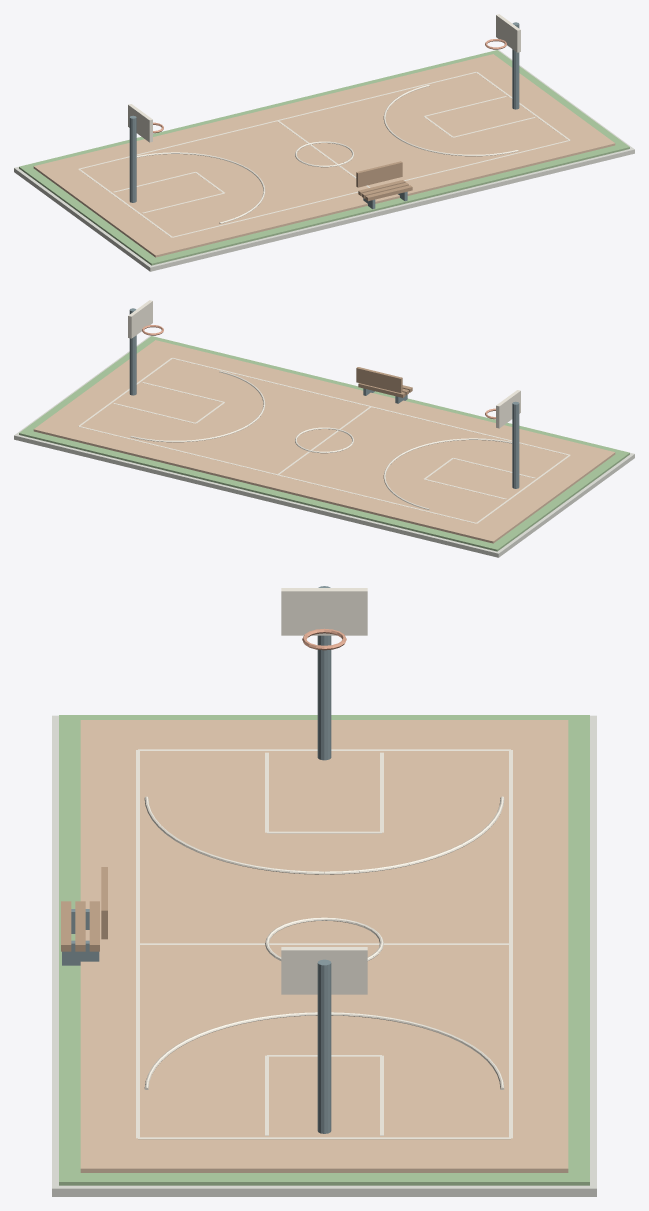
File: remaster_basketball.glb
3 renders of one model, top to bottom at view 1: azimuth 30°, elevation 25°; view 2: azimuth 150°, elevation 25°; view 3: azimuth 270°, elevation 25°, orthographic. The views are drawn at different scales.
Visible parts, largest first — view 1: court surface.001, lot surface.006, lot foundation.006, bench back.007, hoop support, painted line.010, backboard.001, painted line.009, backboard, hoop support.001; view 2: court surface.001, lot surface.006, lot foundation.006, bench back.007, hoop support, painted line.010, painted line.009, backboard.001, backboard, hoop support.001; view 3: court surface.001, lot surface.006, lot foundation.006, backboard, backboard.001, hoop support.001, hoop support, painted line.009, painted line.010, painted line.012.
Boxes of the visible parts, box(x1,y1,x2,y2) form: court surface.001: box(33, 54, 615, 257); lot surface.006: box(19, 50, 629, 265); lot foundation.006: box(14, 49, 634, 271); bench back.007: box(356, 161, 402, 187); hoop support: box(129, 115, 136, 202); painted line.010: box(79, 72, 476, 169); backboard.001: box(496, 14, 520, 52); painted line.009: box(172, 140, 569, 237); backboard: box(128, 104, 152, 142); hoop support.001: box(512, 22, 519, 109); court surface.001: box(33, 340, 615, 543); lot surface.006: box(19, 336, 629, 551); lot foundation.006: box(14, 335, 634, 557); bench back.007: box(356, 367, 402, 392); hoop support: box(512, 401, 519, 488); painted line.010: box(79, 426, 476, 523); painted line.009: box(172, 358, 569, 455); backboard.001: box(128, 300, 152, 338); backboard: box(496, 390, 520, 428); hoop support.001: box(129, 308, 136, 395); court surface.001: box(80, 720, 568, 1172); lot surface.006: box(59, 715, 589, 1185); lot foundation.006: box(52, 715, 596, 1196); backboard: box(281, 588, 367, 635); backboard.001: box(281, 947, 367, 994); hoop support.001: box(317, 959, 331, 1133); hoop support: box(317, 586, 331, 760); painted line.009: box(136, 750, 139, 1138); painted line.010: box(509, 750, 512, 1138); painted line.012: box(138, 1137, 510, 1139).
Size of the model in its own units: 19.5 by 3.68 by 9.5.
